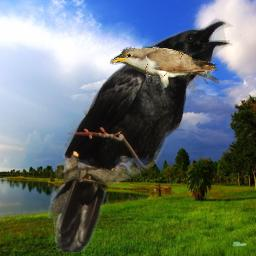Crow: (47, 16, 233, 252)
Cuckoo: (110, 46, 219, 98)
